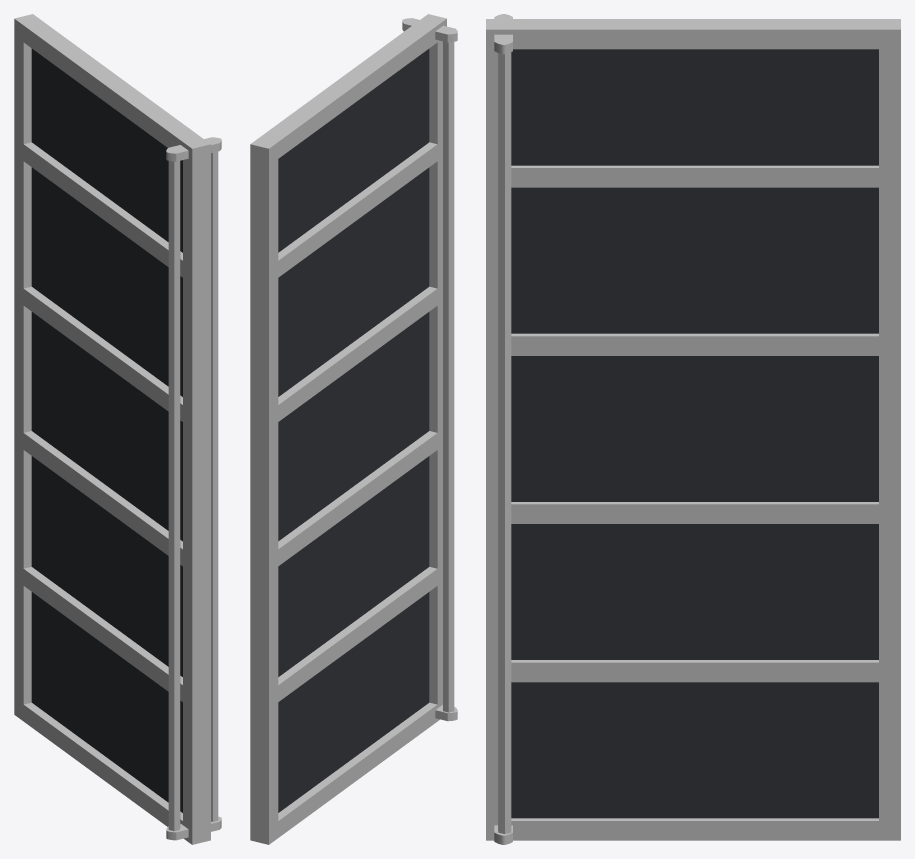
Rendered from SW_corridor__R_lobby_R_Aula_UlkoOvi_007.FBX.
3 renders of one model, left to right at view 1: azimuth 30°, elevation 25°; view 2: azimuth 150°, elevation 25°; view 3: azimuth 270°, elevation 25°, orthographic. The views are drawn at different scales.
Visible parts, largest first — view 1: SW_corridor__R_lobby_R_Aula_UlkoOvi_007; view 2: SW_corridor__R_lobby_R_Aula_UlkoOvi_007; view 3: SW_corridor__R_lobby_R_Aula_UlkoOvi_007.
Boxes of the visible parts, x1=… form: SW_corridor__R_lobby_R_Aula_UlkoOvi_007: x1=14, y1=14, x2=221, y2=844; SW_corridor__R_lobby_R_Aula_UlkoOvi_007: x1=250, y1=14, x2=457, y2=844; SW_corridor__R_lobby_R_Aula_UlkoOvi_007: x1=486, y1=14, x2=900, y2=844.
Bounding box in the file's own units: 16.77 × 95 × 205.
